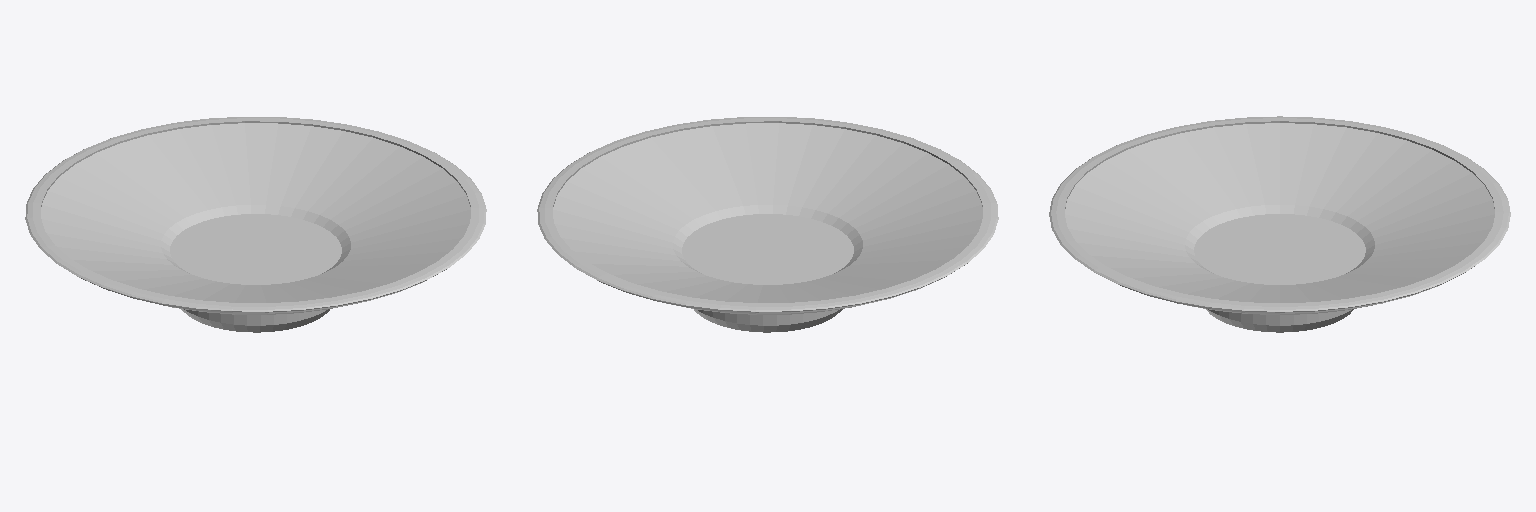
File: nahodkichiniq.obj
The picture shows the model from 3 angles: view 1: azimuth 30°, elevation 25°; view 2: azimuth 150°, elevation 25°; view 3: azimuth 270°, elevation 25°; orthographic projection.
Parts seen in each view (by area): view 1: Cylinder; view 2: Cylinder; view 3: Cylinder.
Part boxes in pixels (x1,y1,x2,y2): Cylinder: (25,117,486,332); Cylinder: (537,117,998,332); Cylinder: (1049,116,1510,332).
Size of the model in its own units: 5.32 by 1.11 by 5.32.